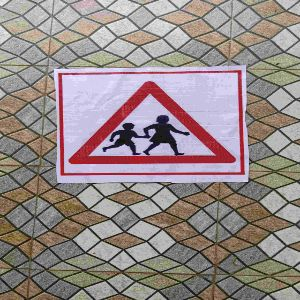schools: (61, 76, 242, 174)
